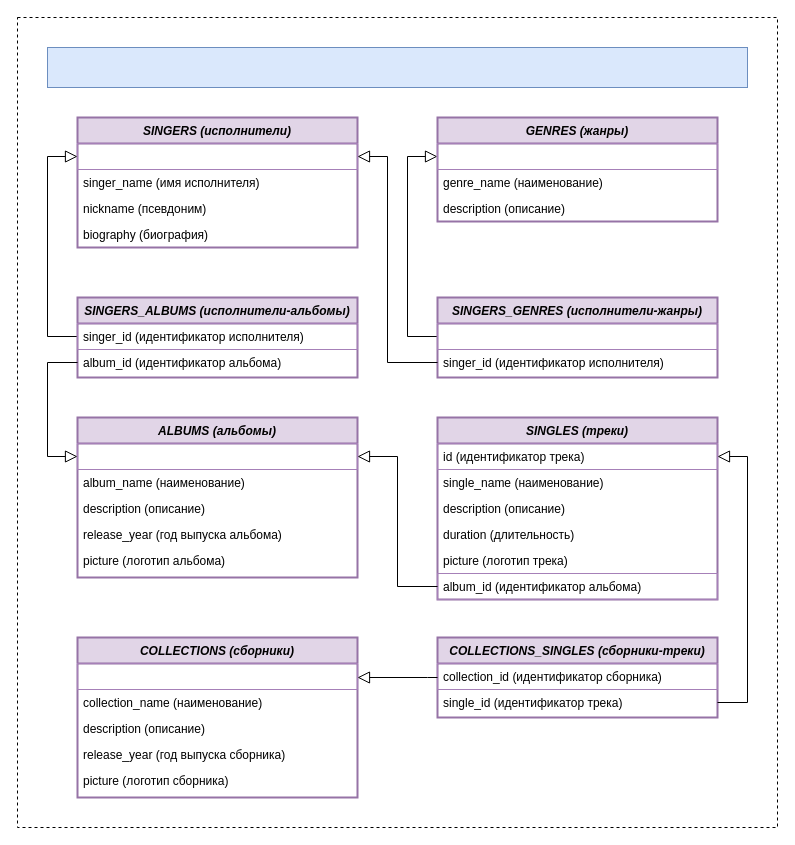
The diagram is 795 pixels wide and 845 high, and some of its shapes have lost their labels. Here are the shapes that lost their labels. From the top down, the centre of each, then its label:
At (x=397, y=67): "Схема таблиц и связей между ними для базы данных музыкального сайта".
At (x=217, y=156): "id (идентификатор исполнителя)".
At (x=577, y=156): "id (идентификатор жанра)".
At (x=577, y=336): "genre_id (идентификатор жанра)".
At (x=217, y=456): "id (идентификатор альбома)".
At (x=217, y=676): "id (идентификатор сборника)".
